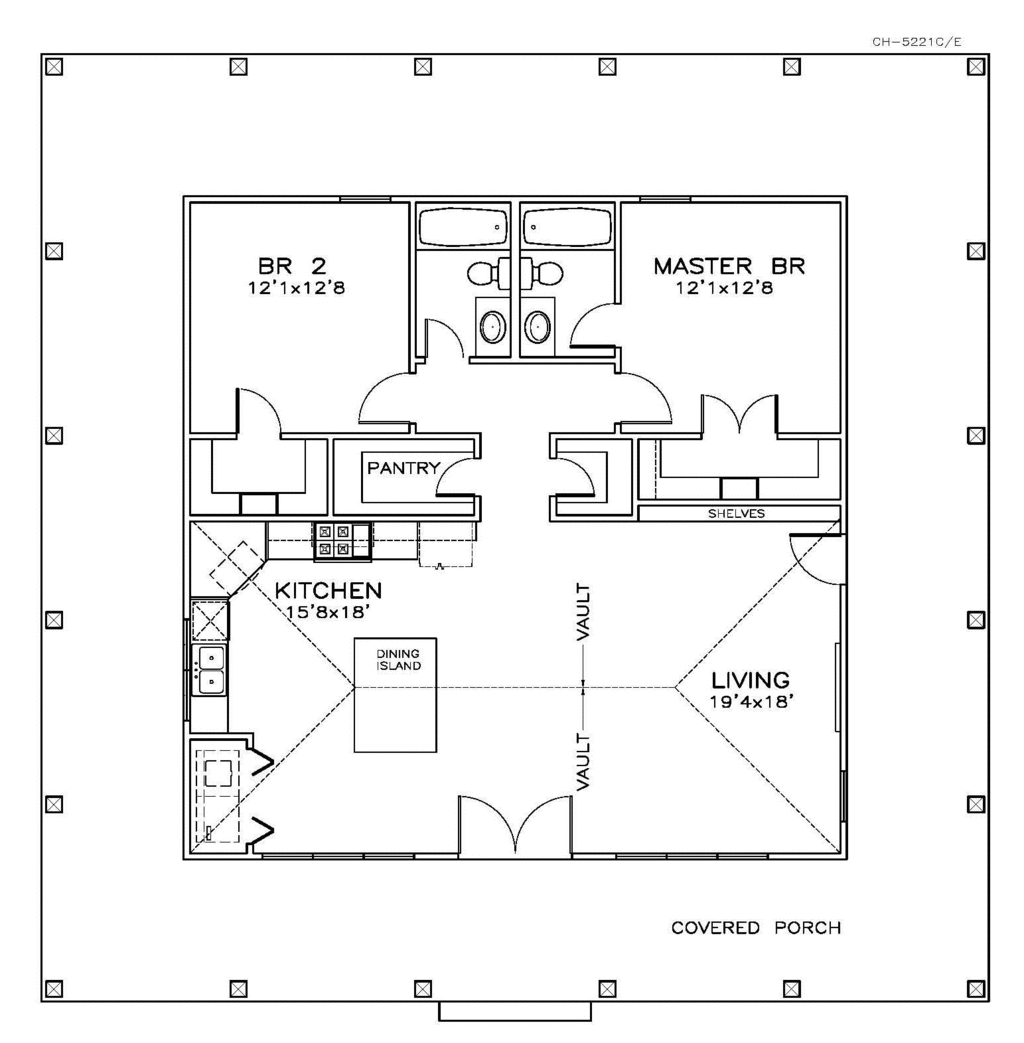door: (450, 781, 576, 861), (695, 382, 787, 436), (792, 530, 853, 591), (351, 367, 411, 423), (614, 372, 672, 425), (232, 378, 285, 435), (572, 298, 627, 352), (543, 456, 601, 501), (429, 452, 488, 493), (418, 309, 466, 359)
kitchen_bar: (247, 525, 456, 580)
large_sink: (456, 246, 509, 298), (513, 257, 564, 296)
small_sink: (518, 301, 557, 356), (482, 302, 512, 359)
tub: (414, 198, 513, 252), (513, 202, 613, 249)
twin_sink: (187, 635, 240, 704)
window: (614, 849, 761, 862), (261, 844, 411, 856), (637, 183, 698, 206)
